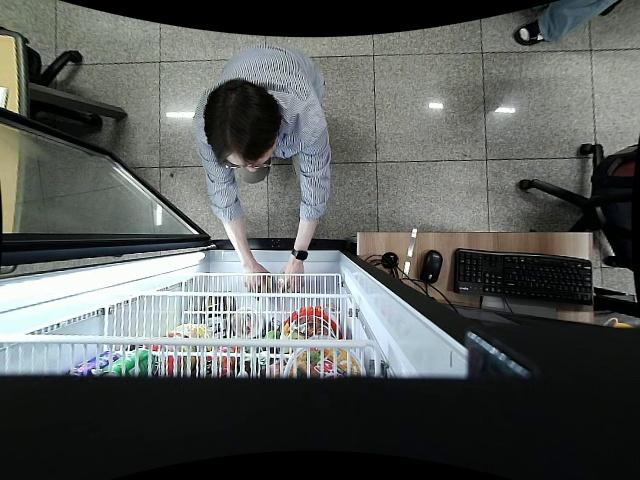00_hand: (247, 265, 273, 299), (279, 271, 305, 297)
